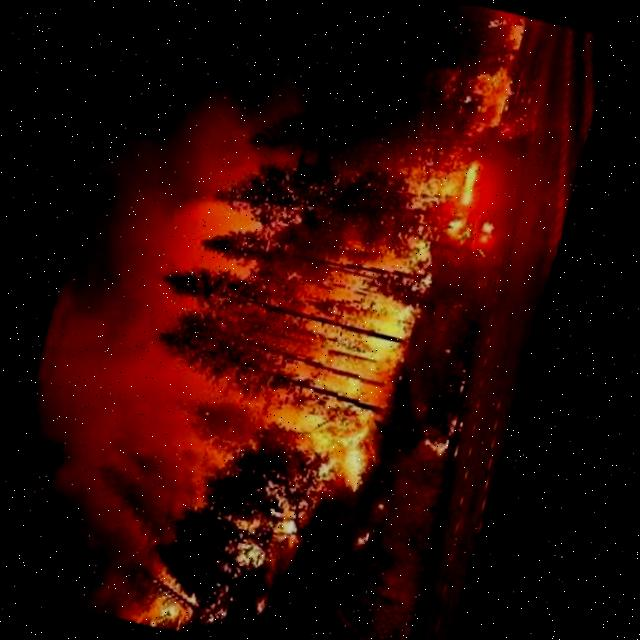fire: (284, 232, 434, 476), (400, 150, 504, 250)
